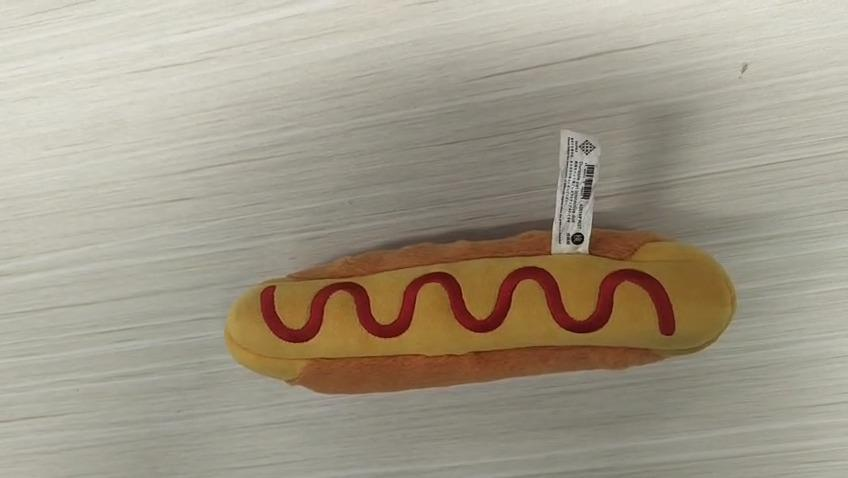hotdog: (223, 225, 737, 395)
